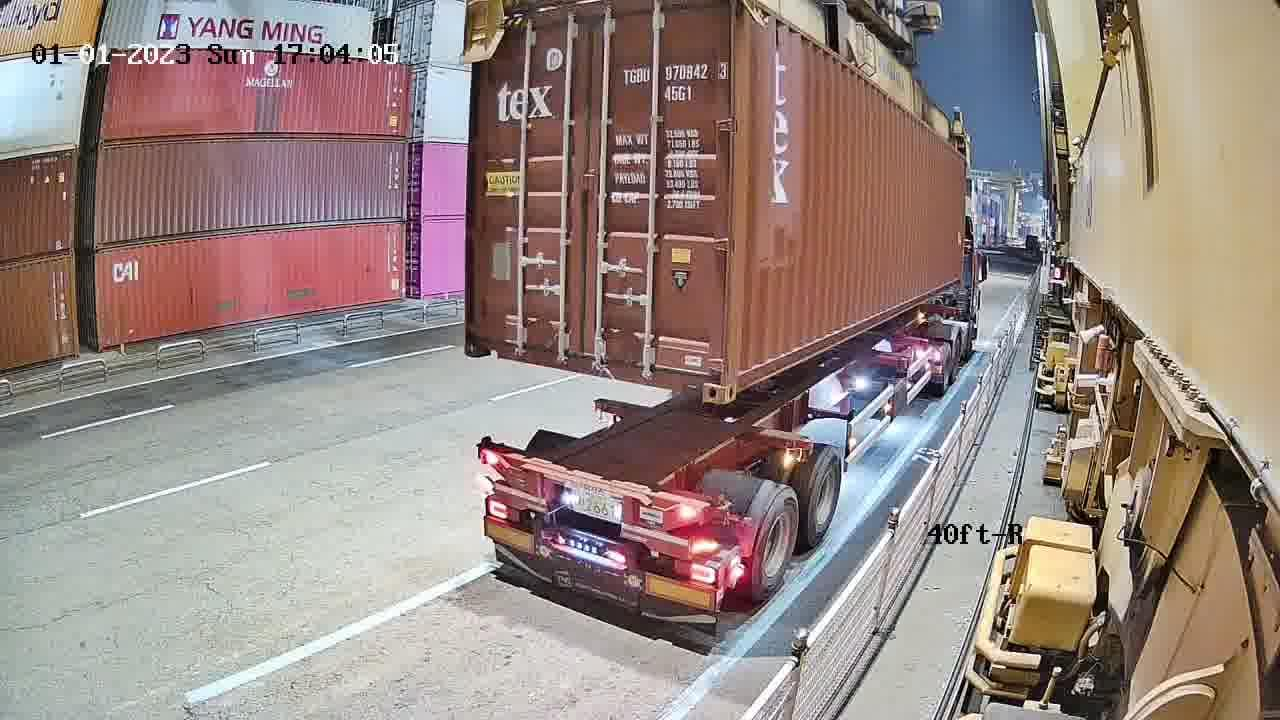Chassis: (477, 451, 708, 530)
Cone: (706, 492, 731, 527), (475, 432, 492, 461)
Hole_L: (725, 338, 762, 404), (464, 318, 510, 360)
Hole_R: (674, 351, 726, 405)
Tire: (753, 489, 800, 592), (809, 448, 843, 545)
